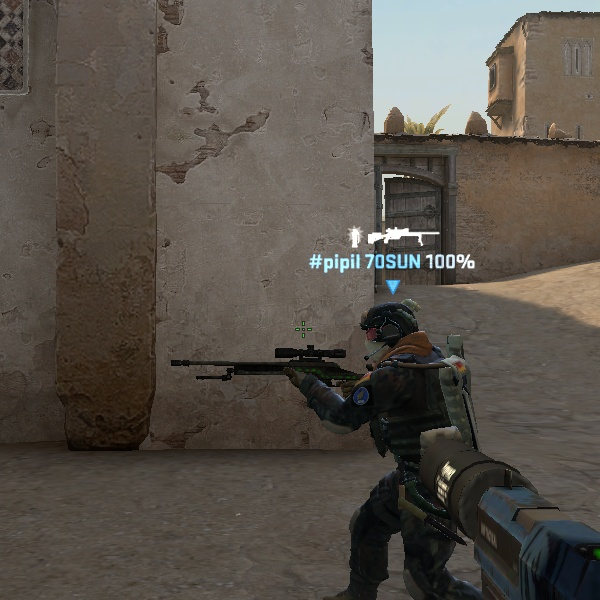ct_body: (298, 289, 501, 596)
ct_head: (354, 294, 434, 374)
